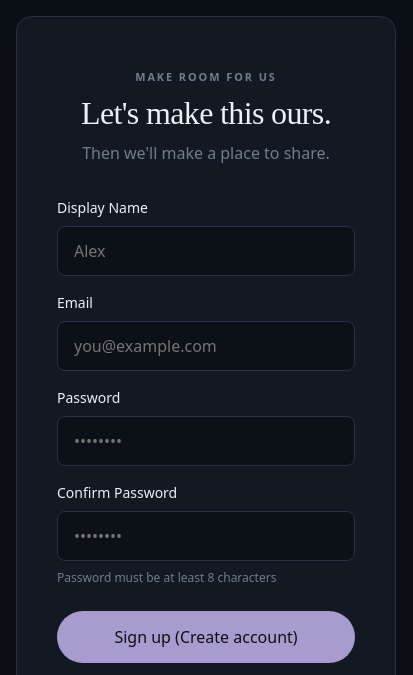
Authentication Pages › Signup Page › shows error for empty name
This screenshot has width=413, height=675.
Click the button "Sign up (Create account)" at point(206, 637), box left=57, top=611, right=355, bottom=663
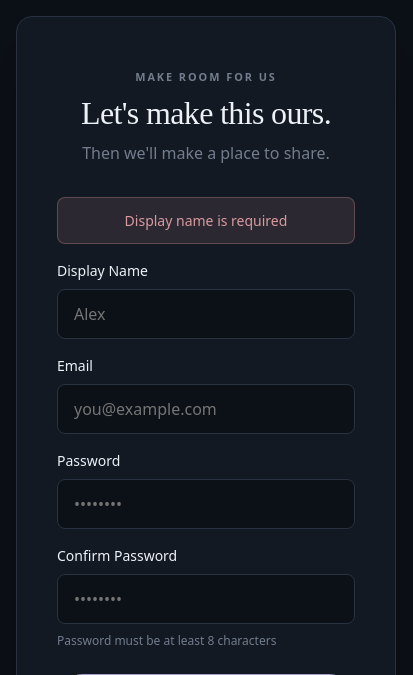
Check: the message reads "Display name is required", box left=125, top=211, right=287, bottom=230
